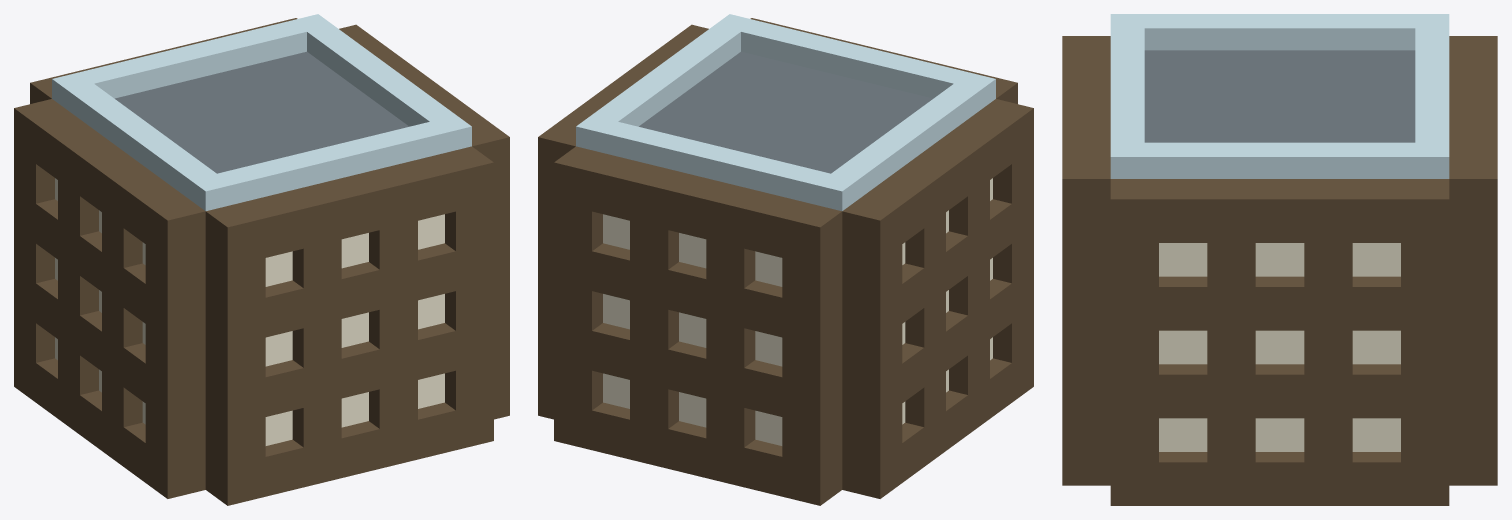
Rendered from Building_1 (Brown).obj.
3 views of the same model, side by side, from view 1: azimuth 30°, elevation 25°; view 2: azimuth 150°, elevation 25°; view 3: azimuth 270°, elevation 25° (orthographic). The views are drawn at different scales.
Parts seen in each view (by area): view 1: Building_1_(Brown); view 2: Building_1_(Brown); view 3: Building_1_(Brown).
Part boxes in pixels (x1,y1,x2,y2): Building_1_(Brown): (14, 14, 509, 505); Building_1_(Brown): (538, 14, 1033, 505); Building_1_(Brown): (1062, 14, 1497, 505).
Size of the model in its own units: 1.8 by 1.5 by 1.8.
